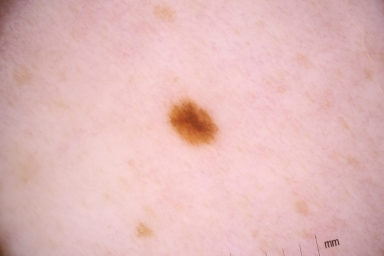melanoma: (171, 100, 220, 147)
